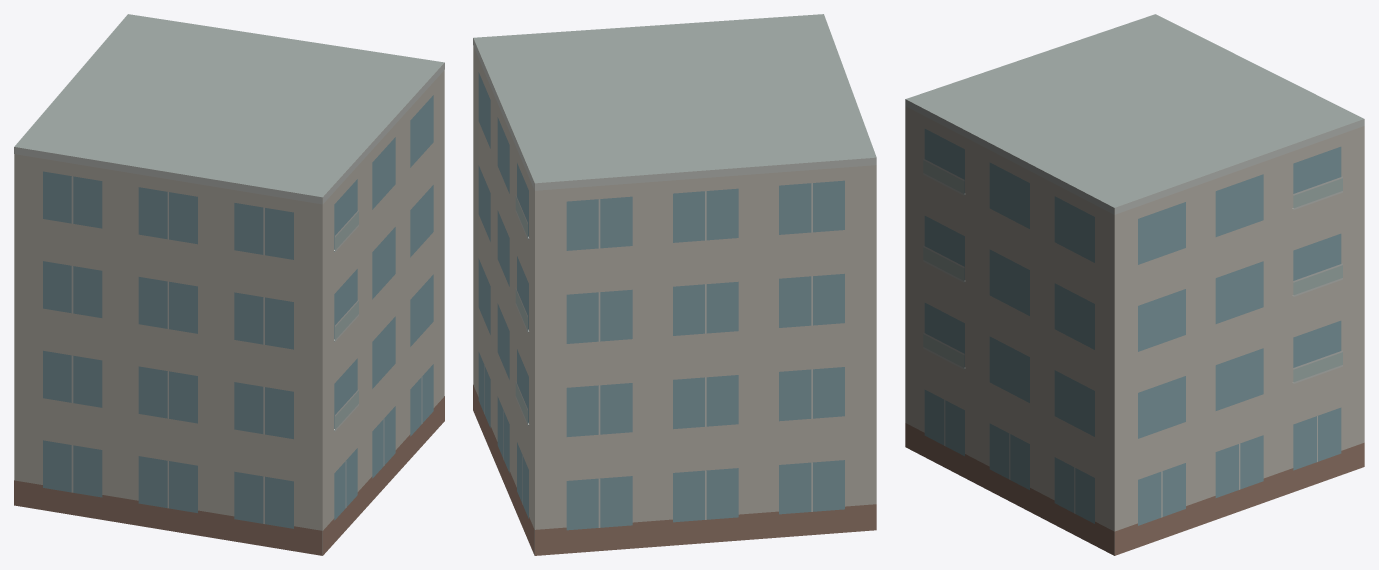
Rendered from survey-upis-32844853.glb.
3 renders of one model, left to right at view 1: azimuth 30°, elevation 25°; view 2: azimuth 150°, elevation 25°; view 3: azimuth 270°, elevation 25°, orthographic. The views are drawn at different scales.
Visible parts, largest first — view 1: survey-upis-32844853.tmp; view 2: survey-upis-32844853.tmp; view 3: survey-upis-32844853.tmp.
Boxes of the visible parts, left/top/right/bottom form: survey-upis-32844853.tmp: left=14, top=14, right=444, bottom=555; survey-upis-32844853.tmp: left=473, top=14, right=876, bottom=555; survey-upis-32844853.tmp: left=905, top=14, right=1364, bottom=555.
Bounding box in the file's own units: 14.59 × 12.2 × 14.6.
